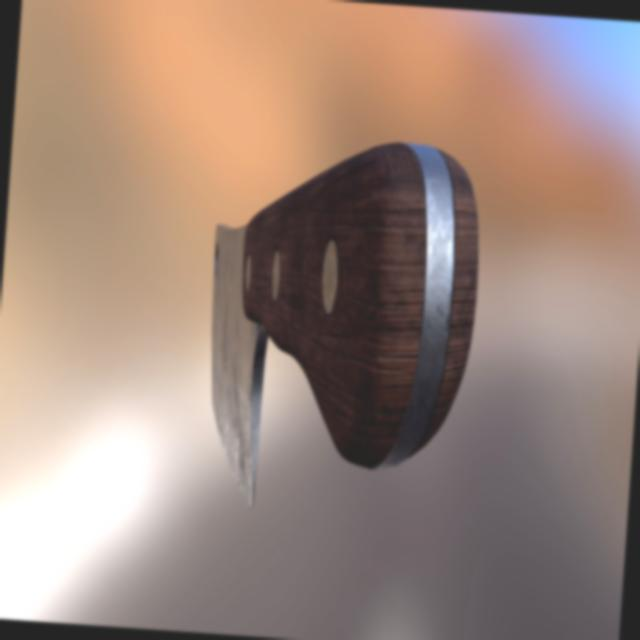cleaver: (197, 128, 488, 522)
